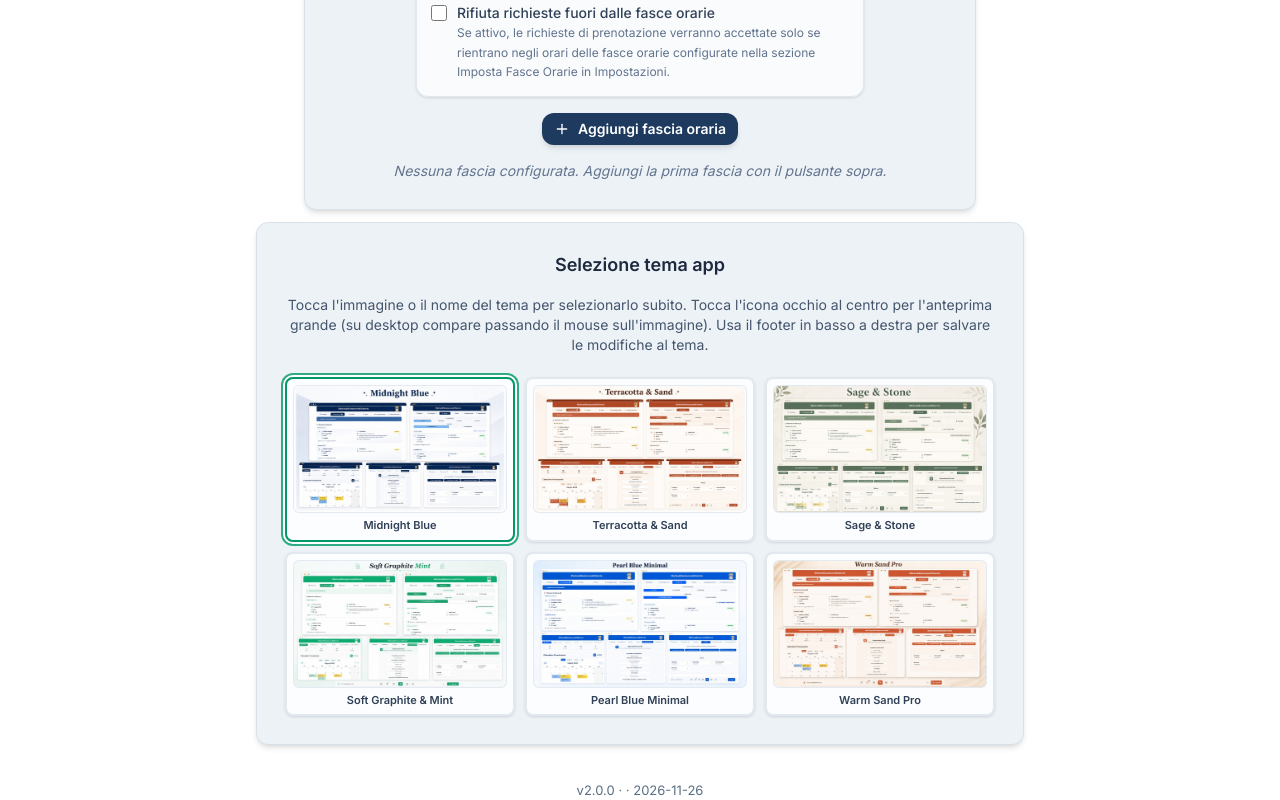
settings-theme M4 — UI Impostazioni › Annulla tutte ripristina il tema salvato
This screenshot has width=1280, height=800.
(page scrolled)
Expected: the heading "Selezione tema app" is shown, [555, 254, 725, 275]
Click the button "Warm Sand Pro". click: (880, 700)
box: [773, 692, 987, 708]
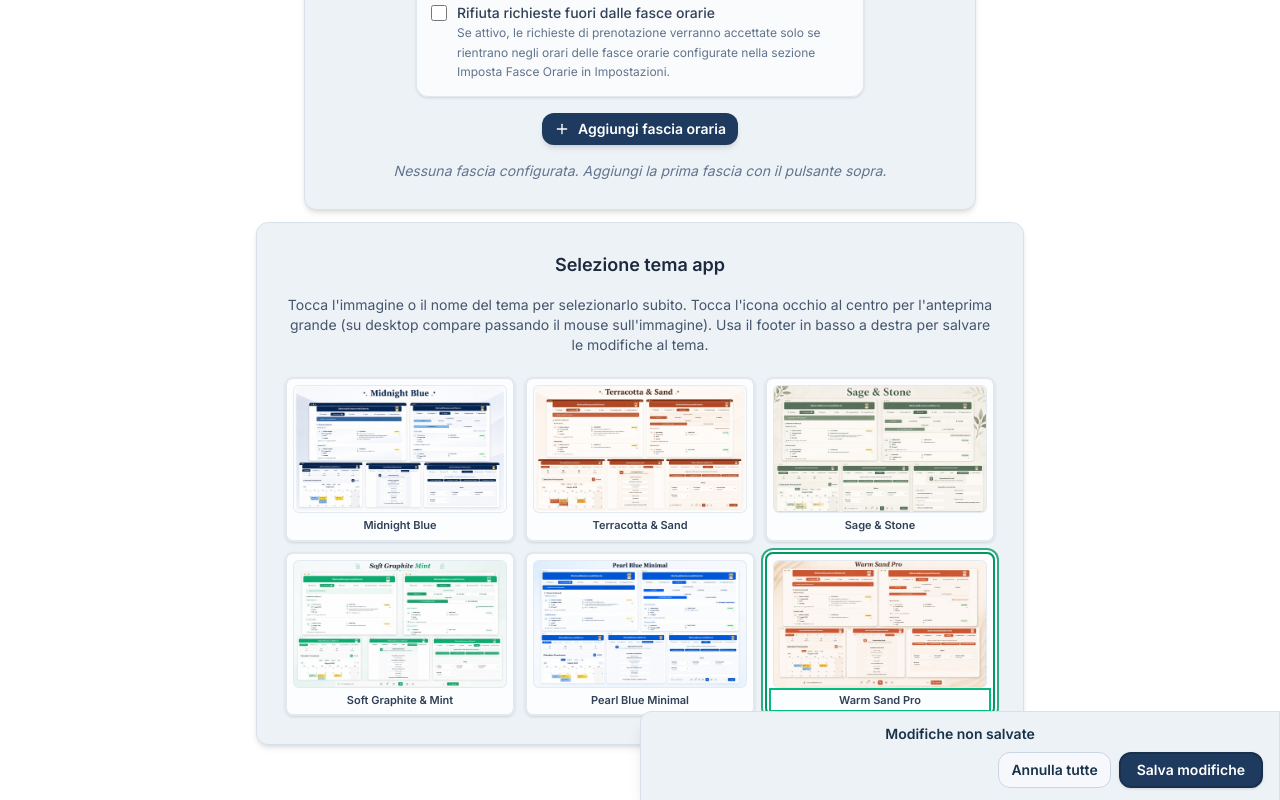
Expected: the element "Modifiche non salvate Annulla tutte Salva modifiche" is shown, [640, 712, 1279, 799]
Click the button "Annulla tutte". click: (1054, 770)
box: [998, 752, 1111, 788]
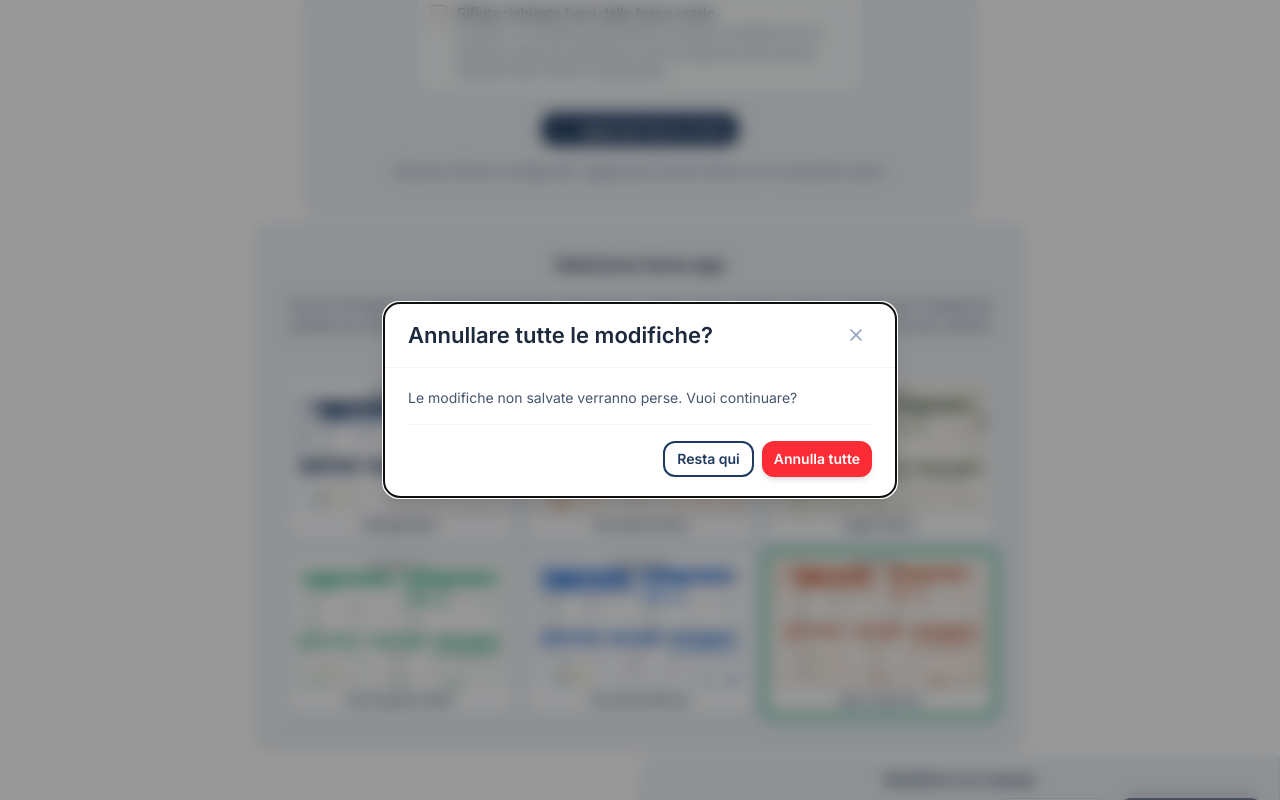
Click the button "Annulla tutte". click: (817, 459)
box: [762, 441, 872, 477]
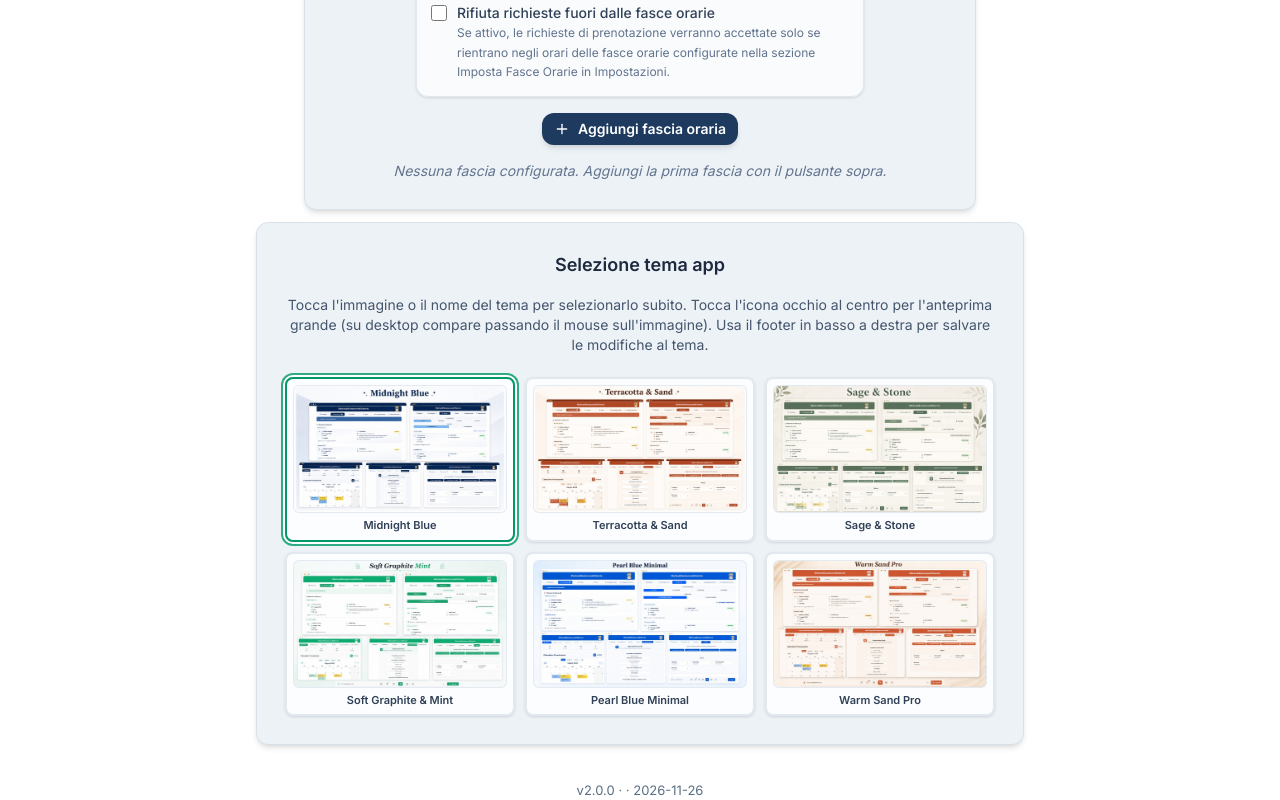
Expected: the text "Modifiche non salvate" is gone
Click the button "Warm Sand Pro". click: (880, 700)
box: [773, 692, 987, 708]
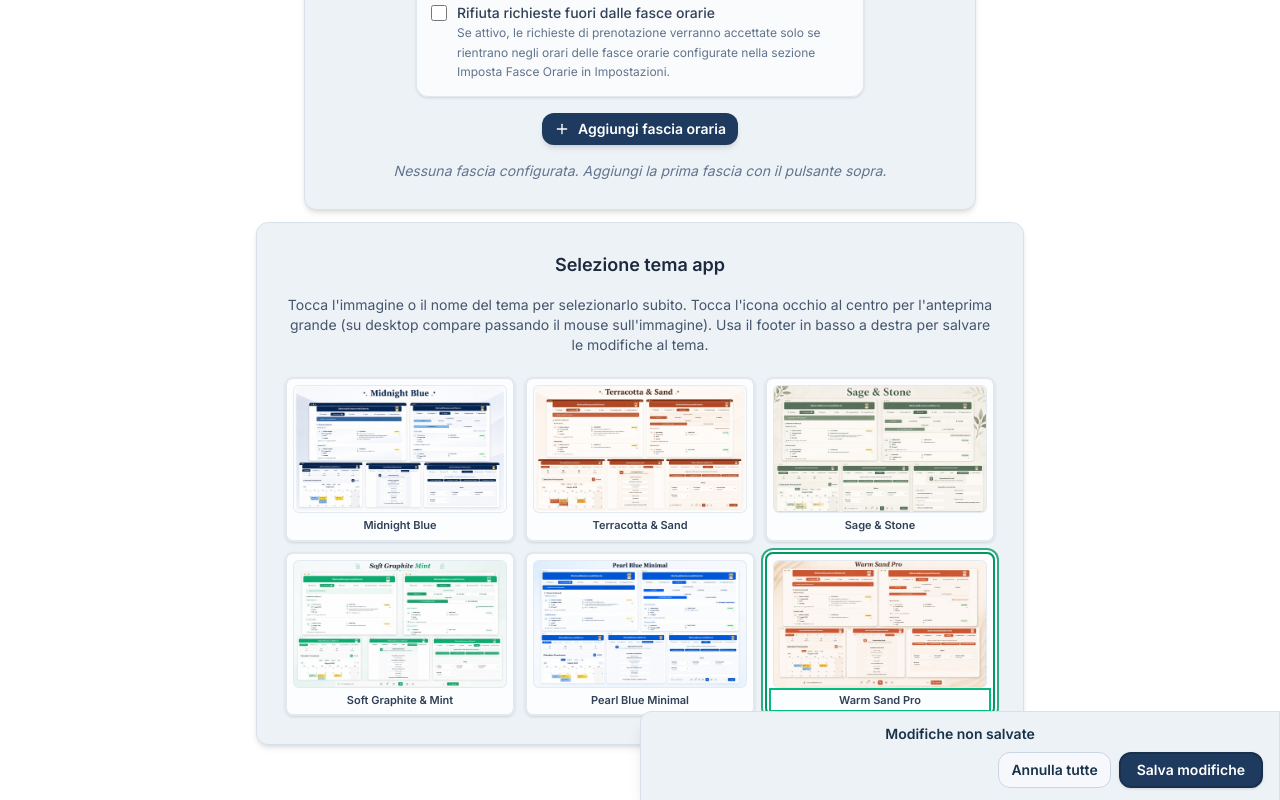
Expected: the element "Modifiche non salvate Annulla tutte Salva modifiche" is shown, [640, 712, 1279, 799]
